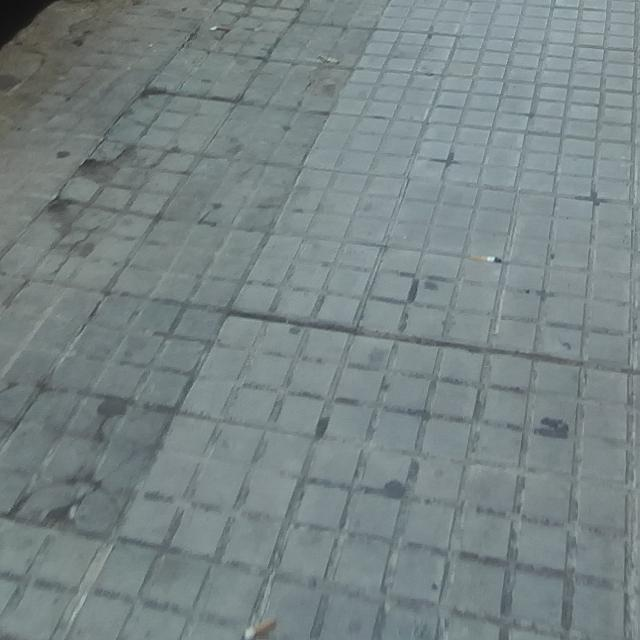calcada_quebrada: (6, 471, 123, 537), (50, 224, 100, 285)
